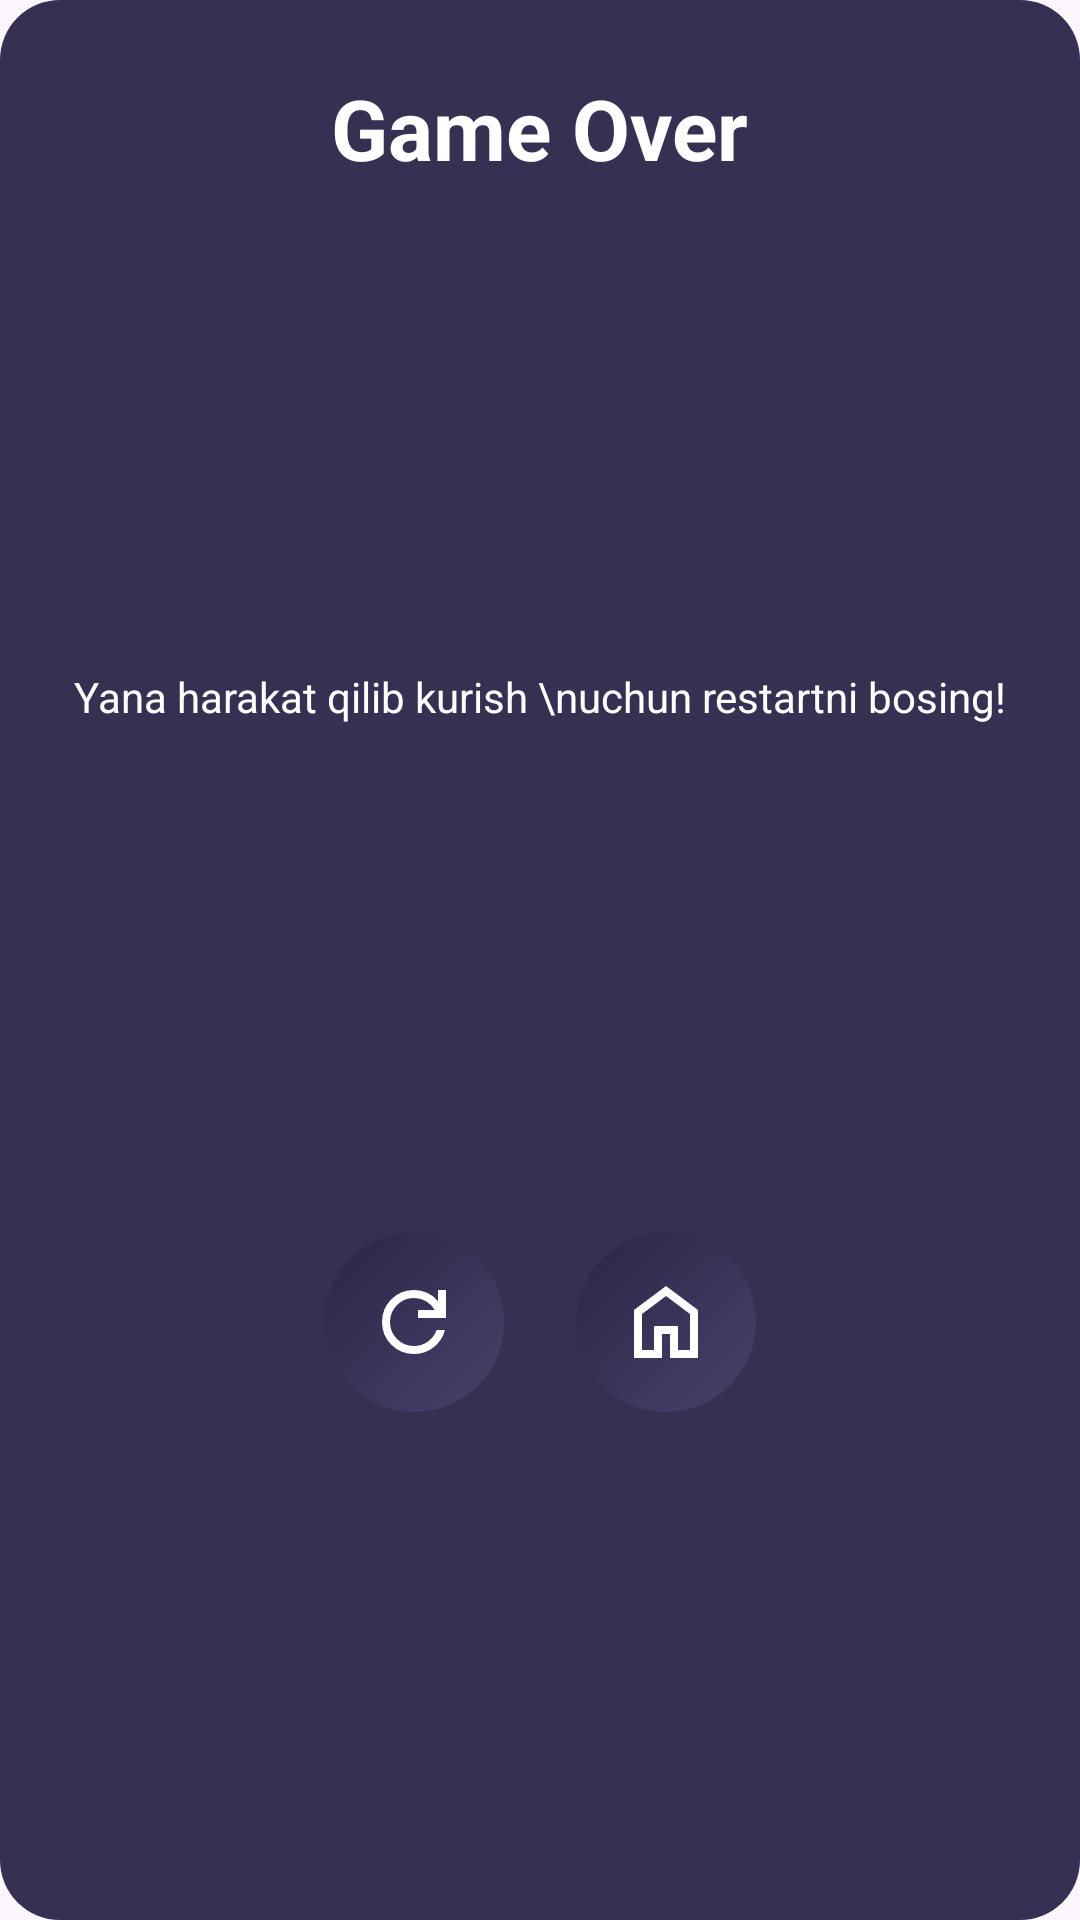

Point at icon controls on the screen. Image size 1080x1920, points as (x,y).
Go to Home: (666,1322)
Restart Game: (414,1322)
